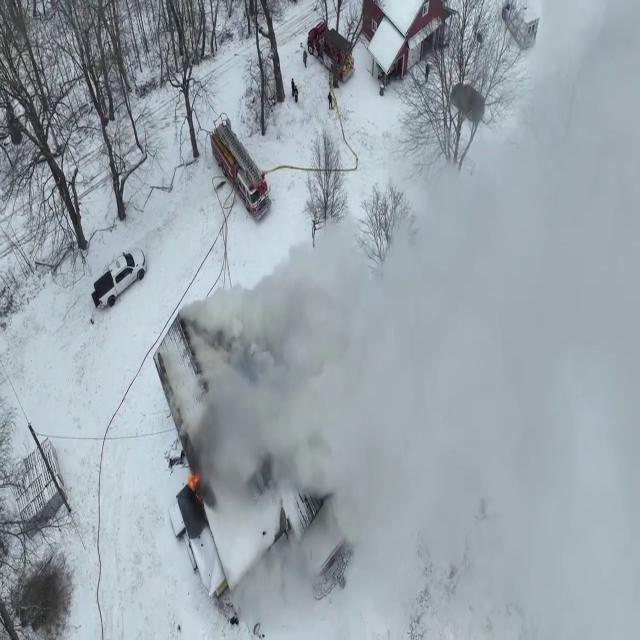Smoke: (188, 31, 640, 635)
